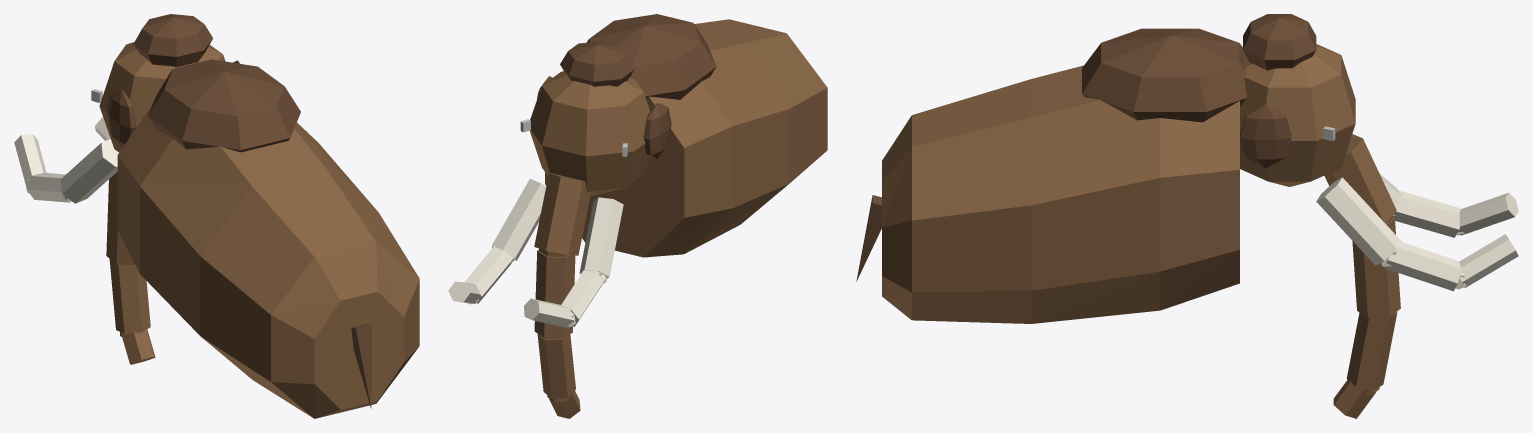
The model's file is animal_mastodon.obj.
3 views of the same model, side by side, from view 1: azimuth 30°, elevation 25°; view 2: azimuth 150°, elevation 25°; view 3: azimuth 270°, elevation 25° (orthographic). The views are drawn at different scales.
Visible parts, largest first — view 1: animal_mastodon; view 2: animal_mastodon; view 3: animal_mastodon.
Part boxes in pixels (left/top/right/bottom): animal_mastodon: left=14, top=14, right=419, bottom=418; animal_mastodon: left=448, top=14, right=827, bottom=418; animal_mastodon: left=856, top=14, right=1518, bottom=418.
Bounding box in the file's own units: 0.9756 × 1.94 × 2.93.
